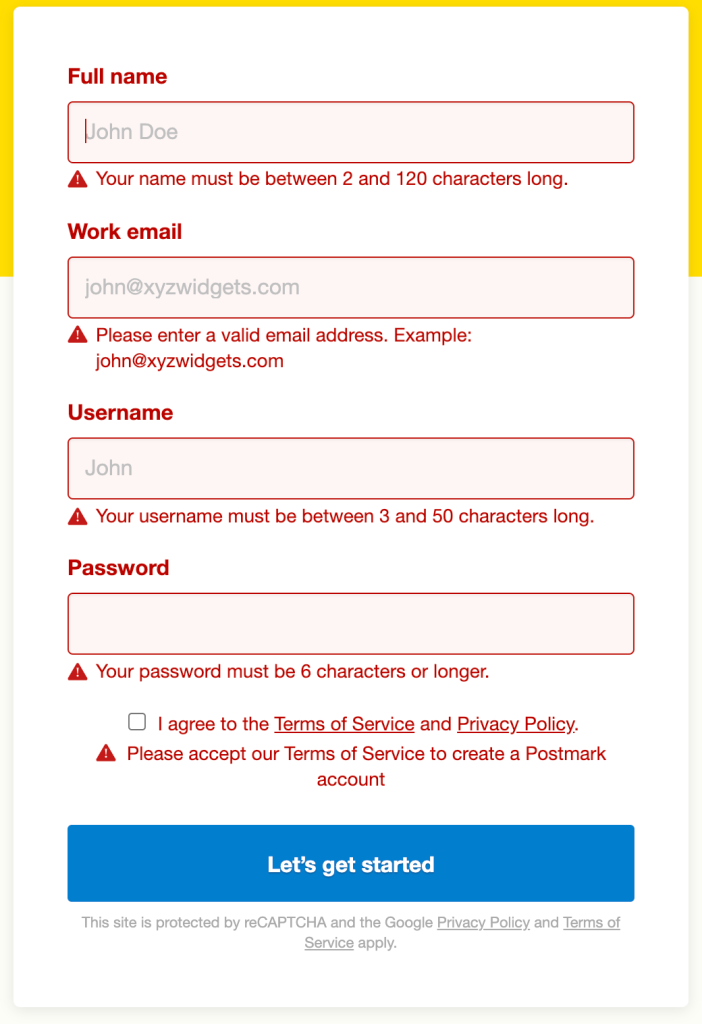error_field: (64, 435, 638, 502), (67, 591, 638, 657), (67, 100, 635, 165), (65, 256, 635, 319)
error_message: (124, 746, 609, 786), (93, 322, 473, 370), (96, 505, 596, 528), (94, 166, 573, 188), (157, 715, 587, 736), (94, 661, 494, 681), (67, 64, 170, 88), (65, 558, 171, 581), (69, 402, 176, 423), (67, 222, 189, 240)
